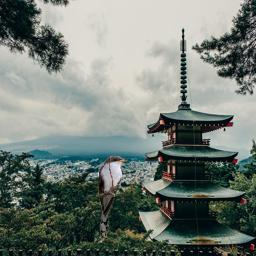Cuckoo: (97, 155, 128, 237)
